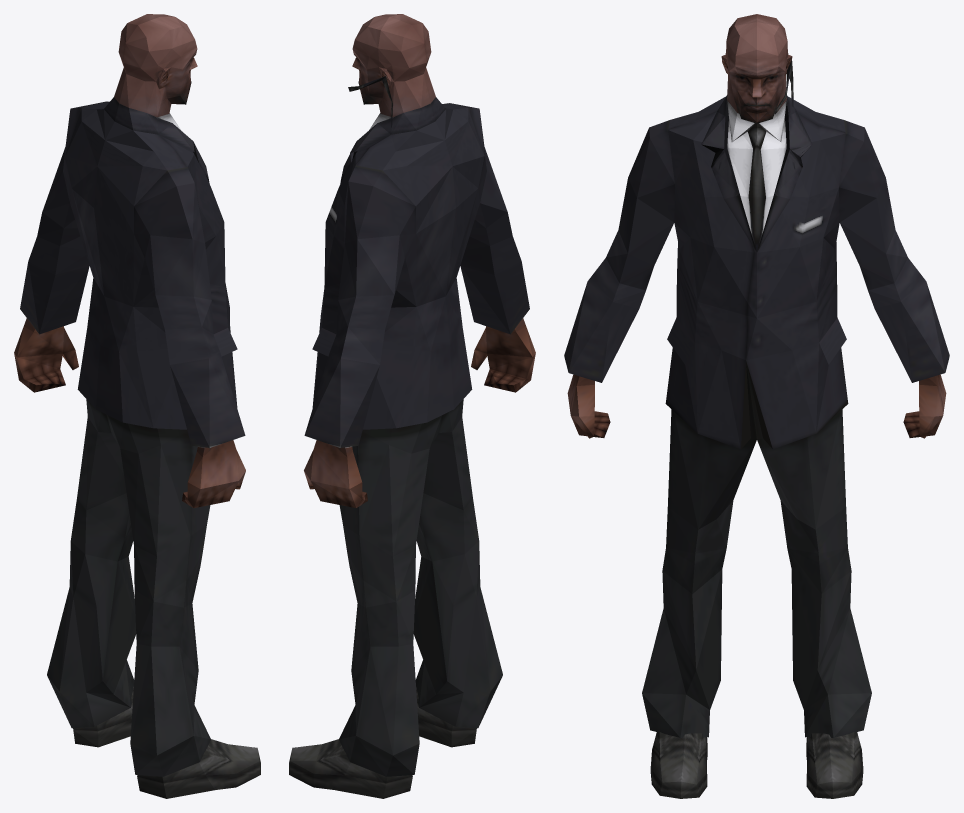
File: bmyboun.obj
The picture shows the model from 3 angles, left to right: view 1: azimuth 30°, elevation 25°; view 2: azimuth 150°, elevation 25°; view 3: azimuth 270°, elevation 25°; orthographic projection.
Visible parts, largest first — view 1: _Pelvis; view 2: _Pelvis; view 3: _Pelvis.
Part boxes in pixels (left/top/right/bottom): _Pelvis: left=14, top=14, right=260, bottom=798; _Pelvis: left=289, top=14, right=535, bottom=798; _Pelvis: left=564, top=14, right=949, bottom=798.
Size of the model in its own units: 0.3401 by 1.84 by 0.8579.
Materials: 1 (1 with a texture image).
